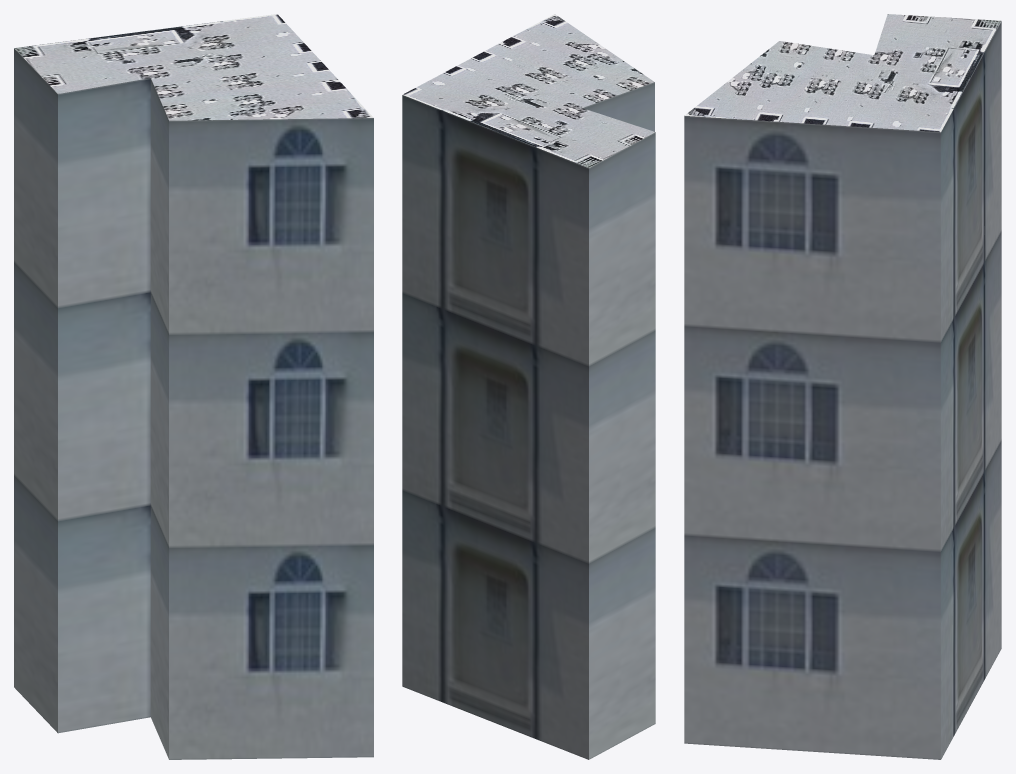
The model's file is ResTex__758.fbx.
The picture shows the model from 3 angles, left to right: view 1: azimuth 30°, elevation 25°; view 2: azimuth 150°, elevation 25°; view 3: azimuth 270°, elevation 25°; orthographic projection. The views are drawn at different scales.
Visible parts, largest first — view 1: CityEngineMaterial_17_m, CityEngineMaterial_8_m; view 2: CityEngineMaterial_17_m, CityEngineMaterial_8_m; view 3: CityEngineMaterial_17_m, CityEngineMaterial_8_m.
Part boxes in pixels (x1,y1,x2,y2): CityEngineMaterial_17_m: (14, 48, 373, 759); CityEngineMaterial_8_m: (14, 14, 373, 120); CityEngineMaterial_17_m: (402, 82, 655, 759); CityEngineMaterial_8_m: (402, 14, 655, 167); CityEngineMaterial_17_m: (684, 21, 1001, 759); CityEngineMaterial_8_m: (684, 14, 1001, 132).
Size of the model in its own units: 3.63 by 9 by 4.12.
2 materials, 2 textured.
